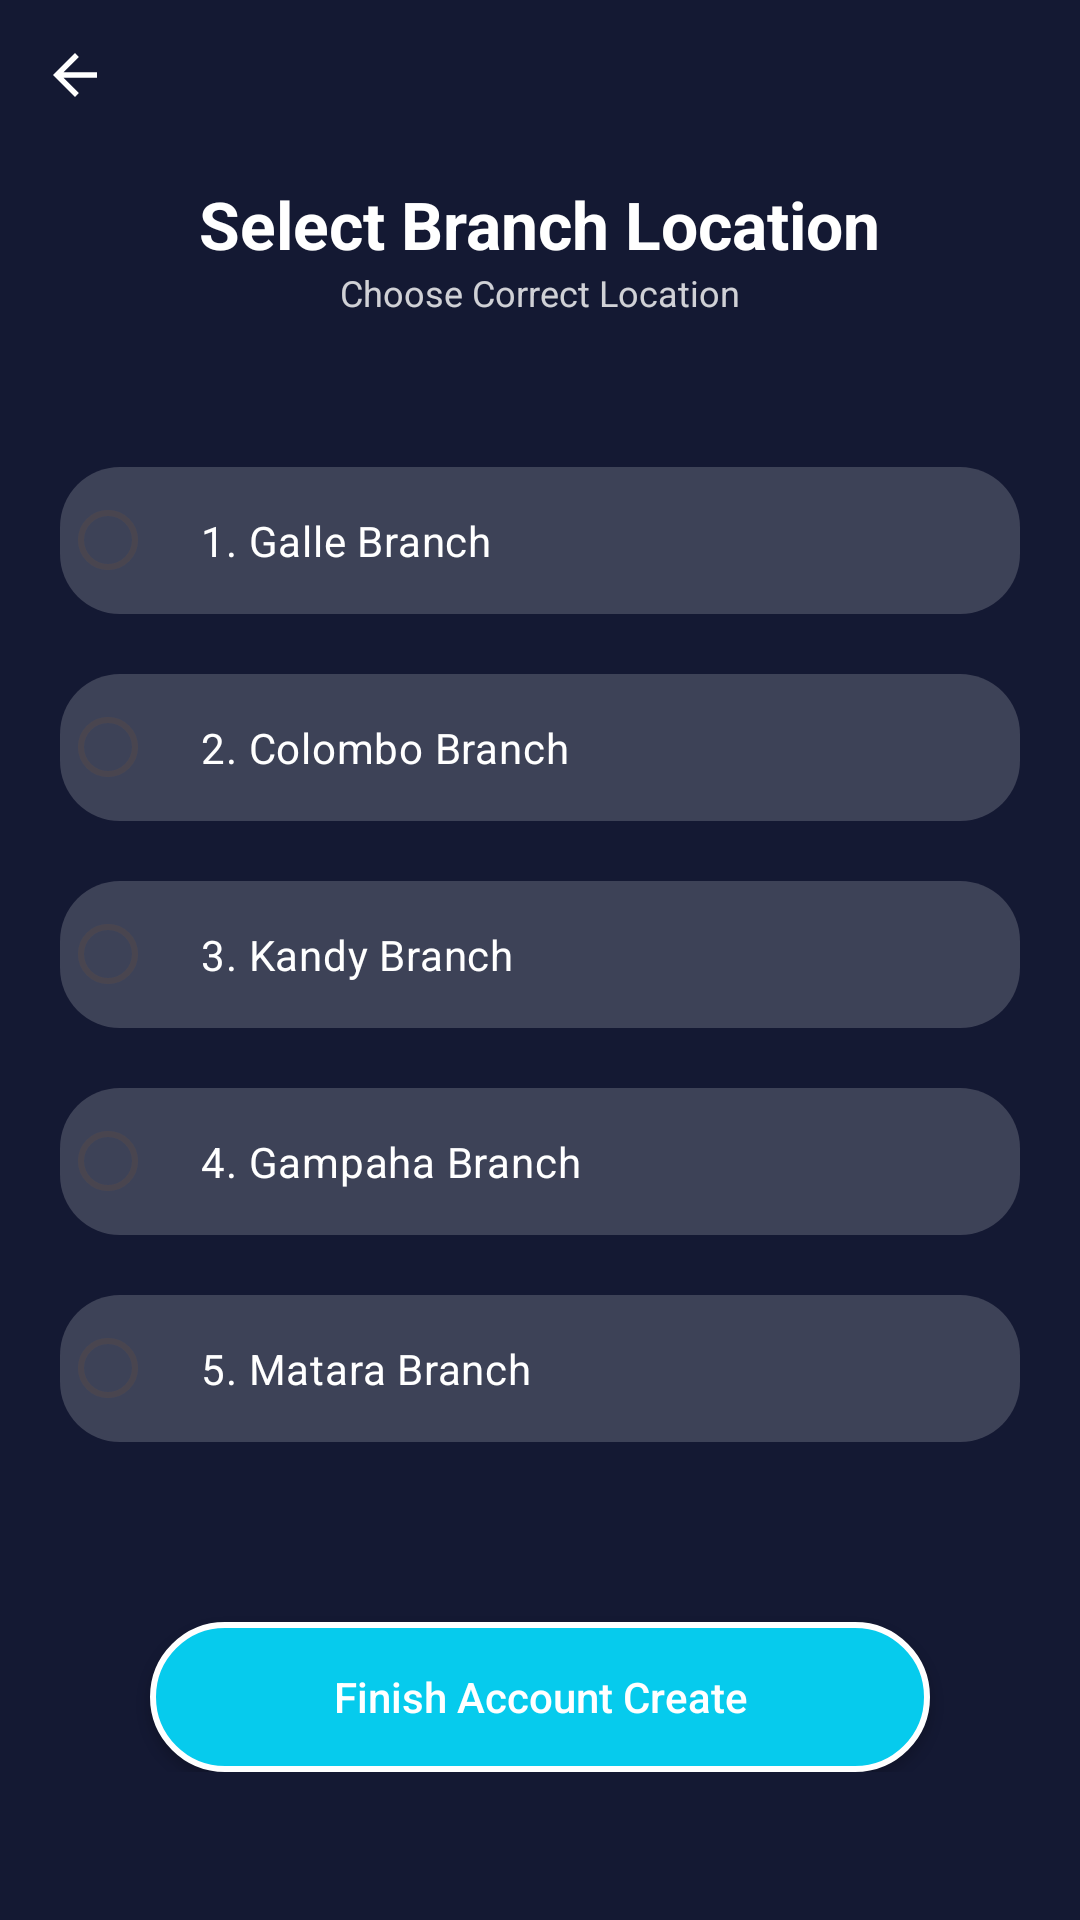

Point at icon controls on the screen. Image size 1080×1920, points as [x,y].
Back Button: [75,75]
